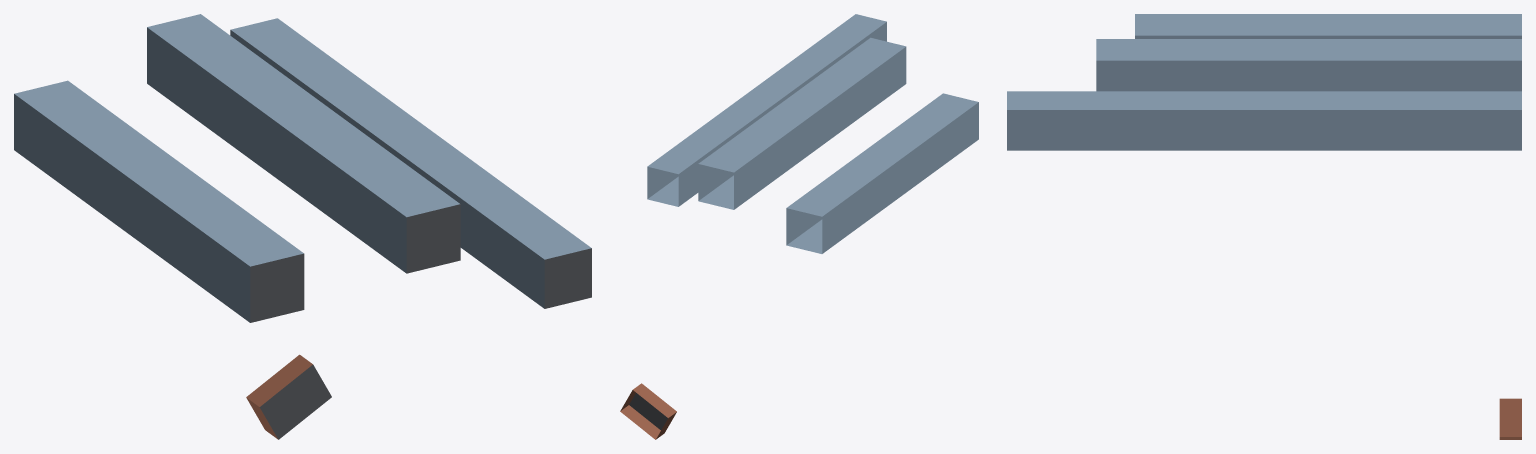
The model's file is island_bldg_03_03.obj.
3 views of the same model, side by side, from view 1: azimuth 30°, elevation 25°; view 2: azimuth 150°, elevation 25°; view 3: azimuth 270°, elevation 25° (orthographic). The views are drawn at different scales.
Visible parts, largest first — view 1: island_bldg_03_03; view 2: island_bldg_03_03; view 3: island_bldg_03_03.
Boxes of the visible parts, x1=… form: island_bldg_03_03: x1=14, y1=14, x2=591, y2=439; island_bldg_03_03: x1=620, y1=14, x2=978, y2=439; island_bldg_03_03: x1=1007, y1=14, x2=1521, y2=439.
Bounding box in the file's own units: 181 × 245 × 323.
